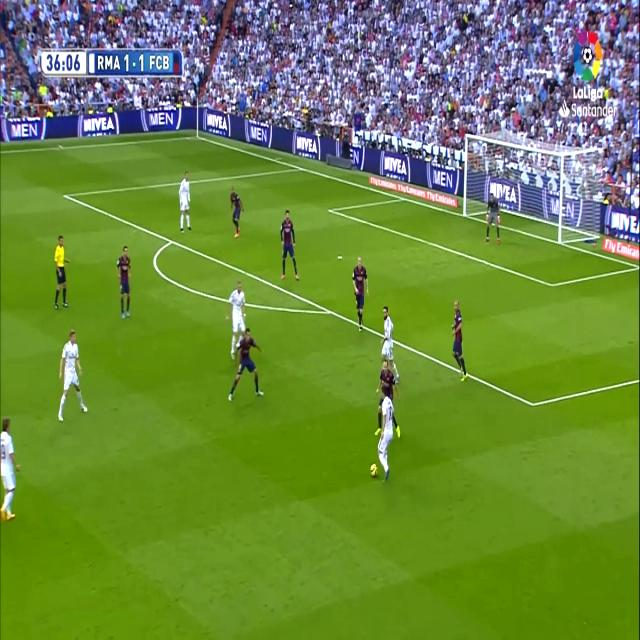bigarea_bottom_inner: (528, 393, 538, 414)
bottom_arc_area_intersection: (323, 302, 335, 320)
corner: (192, 129, 202, 142)
top_arc_area_intersection: (167, 233, 176, 249)
